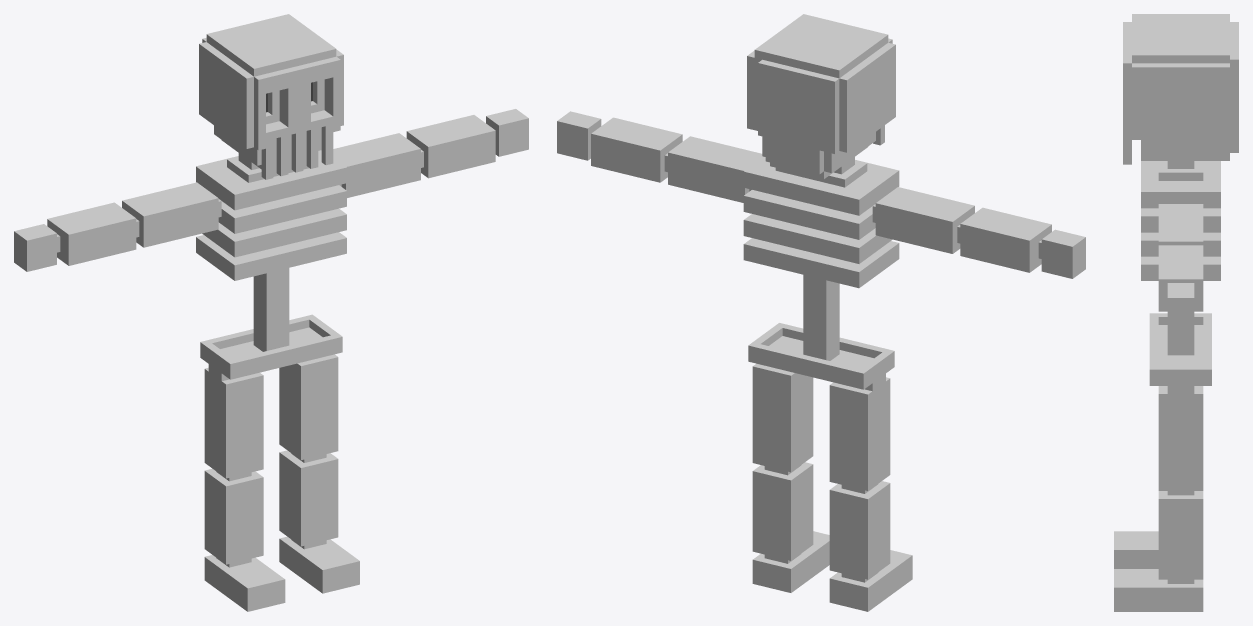
File: Characters-0.obj
3 renders of one model, left to right at view 1: azimuth 30°, elevation 25°; view 2: azimuth 150°, elevation 25°; view 3: azimuth 270°, elevation 25°, orthographic. The views are drawn at different scales.
Size of the model in its own units: 6.7 by 6.8 by 1.4.
Materials: 1 (1 with a texture image).
